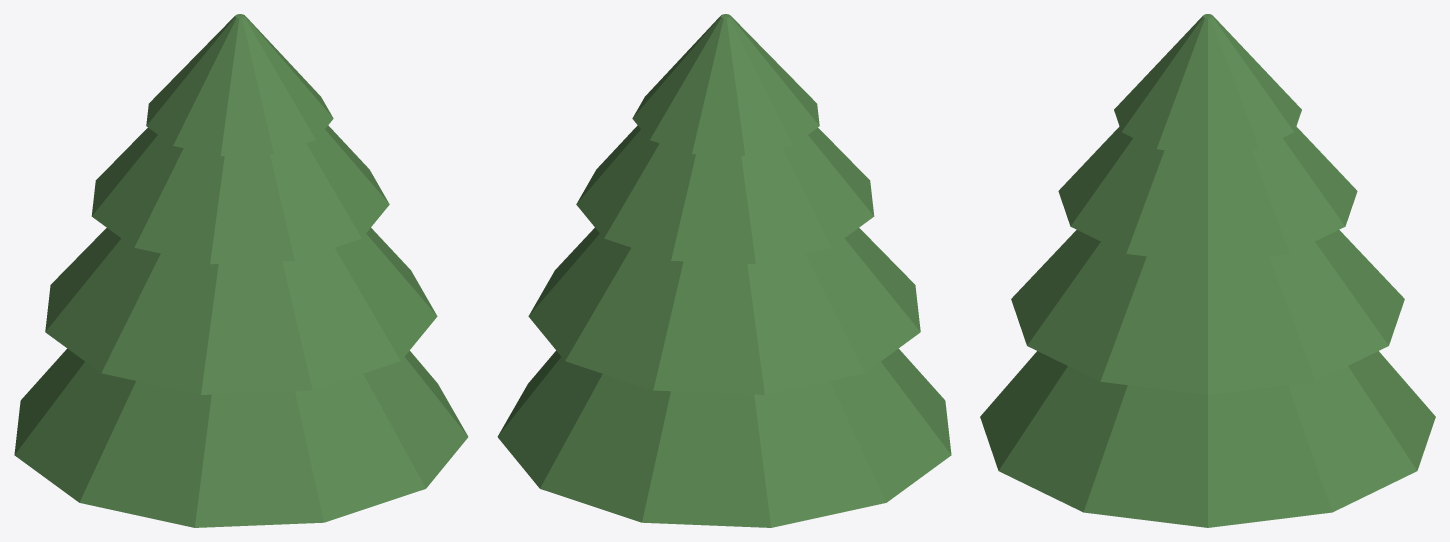
File: pine tree 2.fbx
The picture shows the model from 3 angles, left to right: view 1: azimuth 30°, elevation 25°; view 2: azimuth 150°, elevation 25°; view 3: azimuth 270°, elevation 25°; orthographic projection.
Parts seen in each view (by area): view 1: Pine1, Pine2, Pine5, Pine6; view 2: Pine1, Pine2, Pine5, Pine6; view 3: Pine1, Pine2, Pine5, Pine6.
Boxes of the visible parts, <box> form: Pine1: <box>14,348,468,527</box>; Pine2: <box>45,228,437,394</box>; Pine5: <box>91,125,389,264</box>; Pine6: <box>146,14,333,156</box>; Pine1: <box>497,348,951,527</box>; Pine2: <box>528,228,920,394</box>; Pine5: <box>576,125,874,264</box>; Pine6: <box>632,14,819,156</box>; Pine1: <box>980,351,1435,527</box>; Pine2: <box>1011,230,1404,394</box>; Pine5: <box>1058,126,1357,263</box>; Pine6: <box>1114,14,1301,155</box>.
Bounding box in the file's own units: 3.32 × 3.95 × 3.35.
